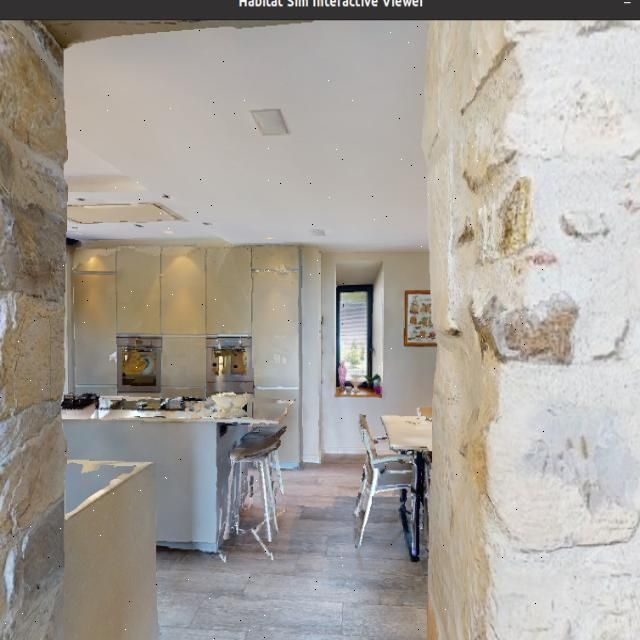chair: (343, 412, 426, 570), (211, 419, 300, 564)
door-frame: (0, 23, 549, 640)
table: (57, 372, 317, 456)
